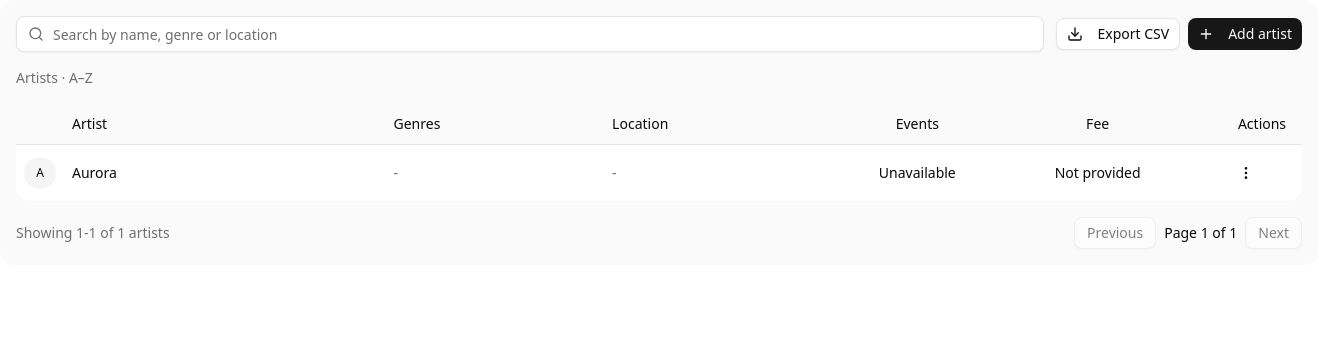
it: distinguishes no matches from an empty roster
Step 1. Type "missing" into the search field named "Search artists" → (530, 34), box [16,16,1044,52]
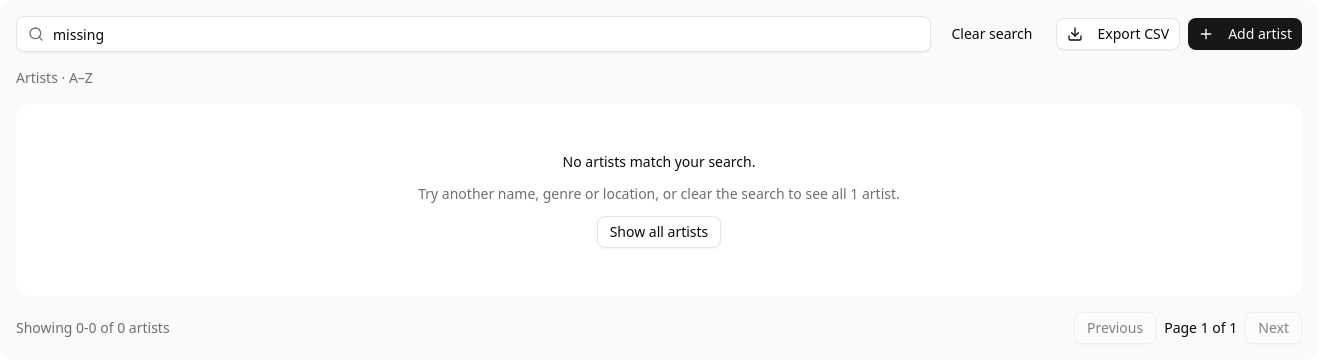
Expected: the text "No artists match your search." is shown, [562,152,755,171]
Expected: the text "Showing 0-0 of 0 artists" is shown, [16,318,170,338]
